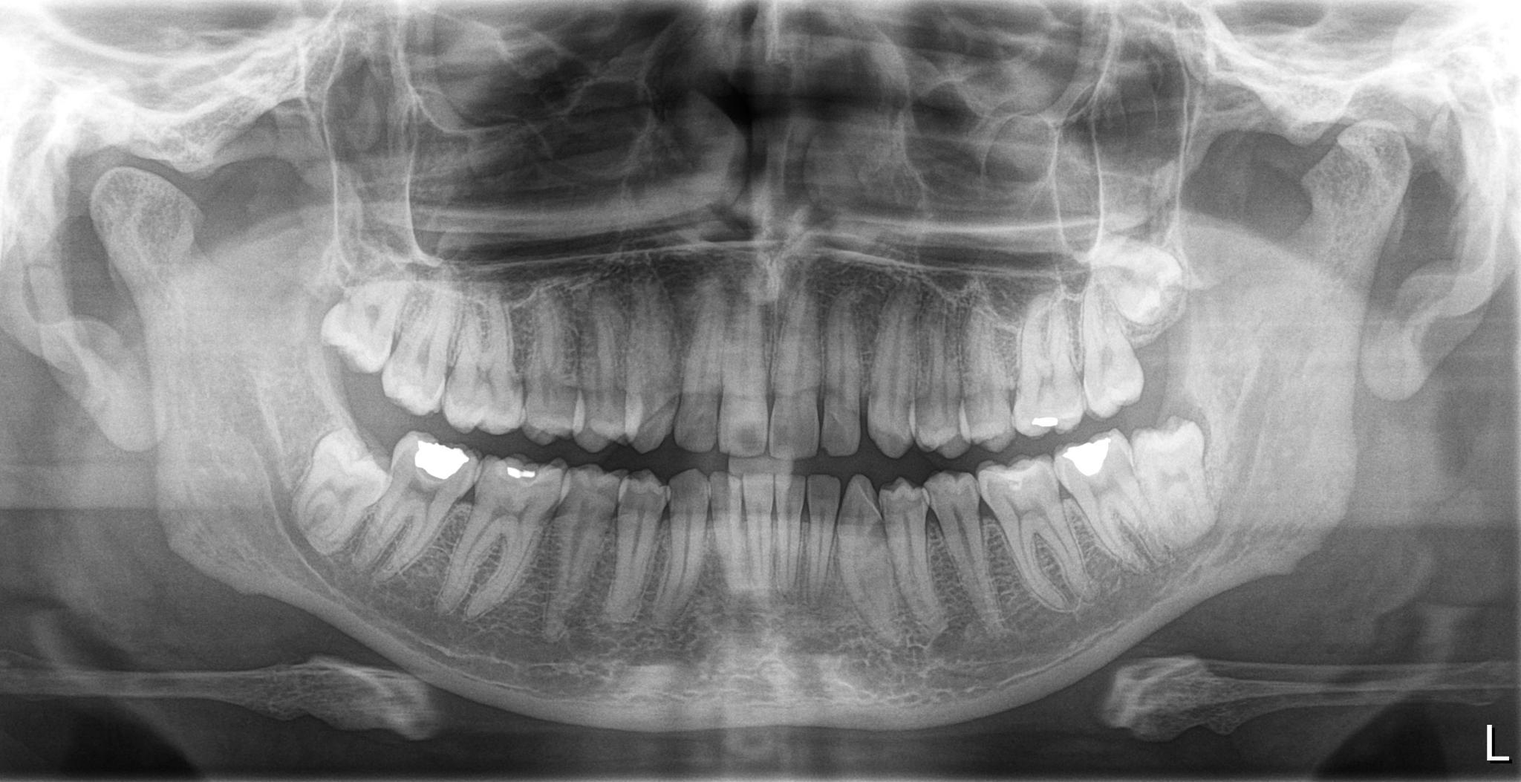Impacted Third Molar: (279, 427, 374, 535), (1134, 427, 1222, 535), (1095, 245, 1199, 333), (316, 275, 397, 375)
